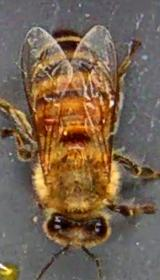varroa_mite: (30, 114, 66, 134)
